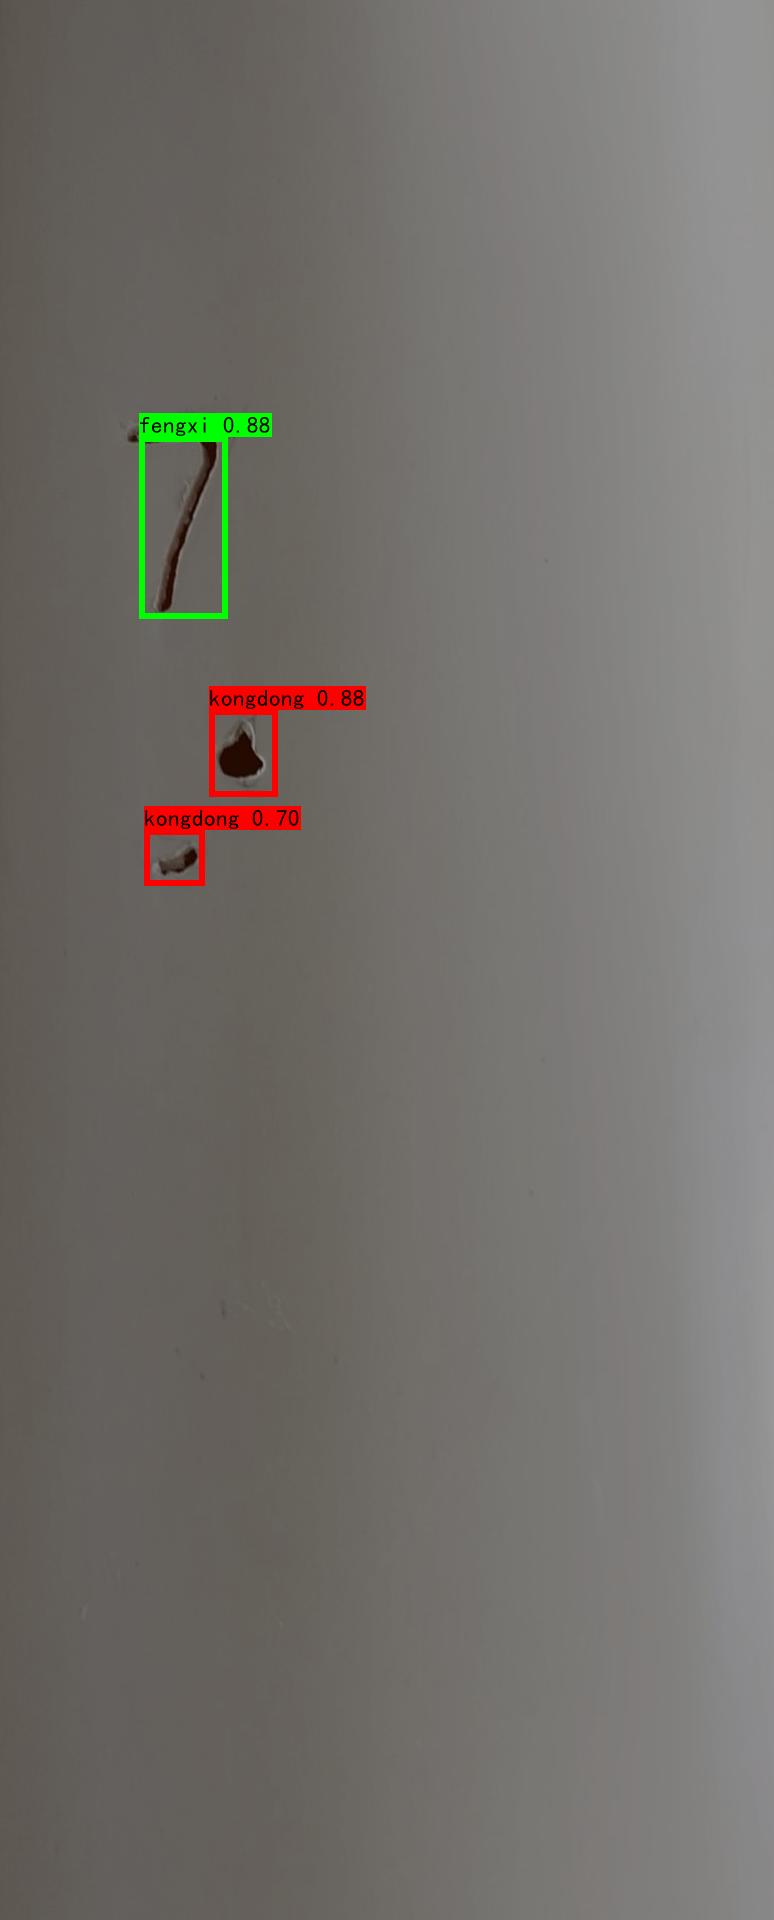fengxi: (110, 411, 228, 622)
kongdong: (187, 715, 273, 797), (141, 827, 219, 895)
